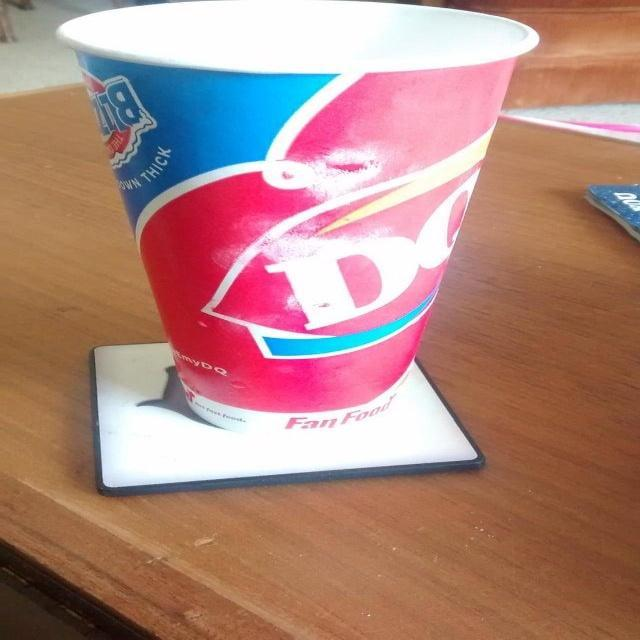paper_cup: (49, 0, 546, 443)
